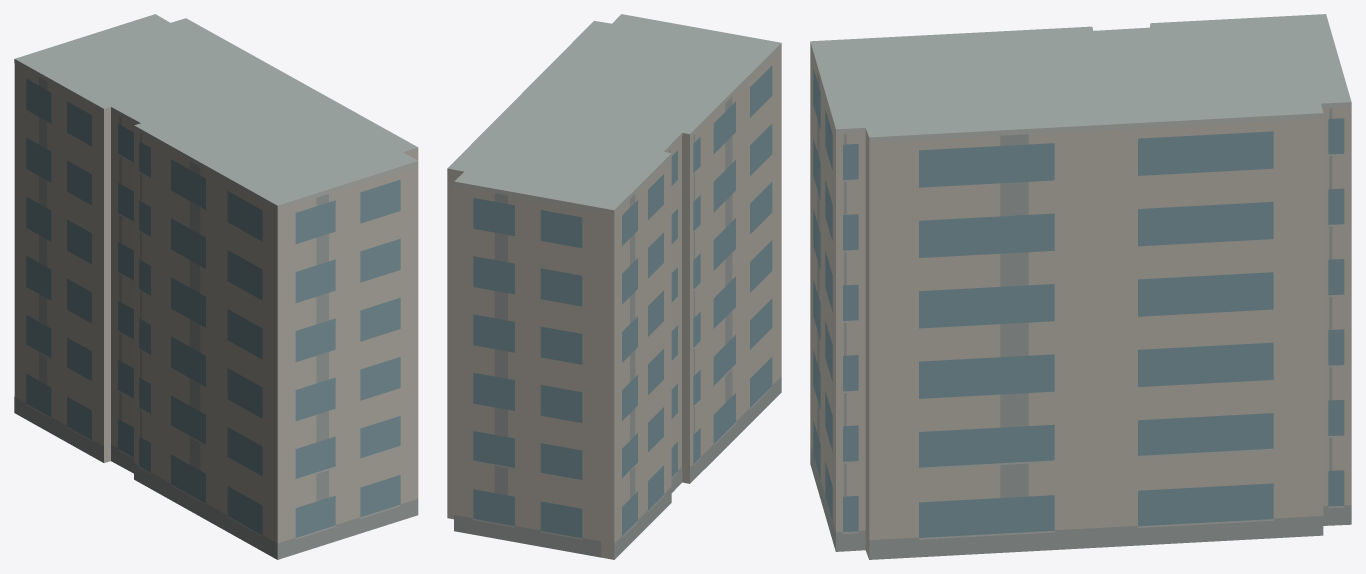
Rendered from survey-upis-32741411.glb.
The picture shows the model from 3 angles, left to right: view 1: azimuth 30°, elevation 25°; view 2: azimuth 150°, elevation 25°; view 3: azimuth 270°, elevation 25°; orthographic projection. The views are drawn at different scales.
Visible parts, largest first — view 1: survey-upis-32741411.tmp; view 2: survey-upis-32741411.tmp; view 3: survey-upis-32741411.tmp.
Boxes of the visible parts, x1,y1,x2,y2 form: survey-upis-32741411.tmp: (14, 14, 418, 559); survey-upis-32741411.tmp: (447, 14, 781, 559); survey-upis-32741411.tmp: (810, 14, 1351, 559).
Size of the model in its own units: 12.23 by 19.5 by 22.66.
